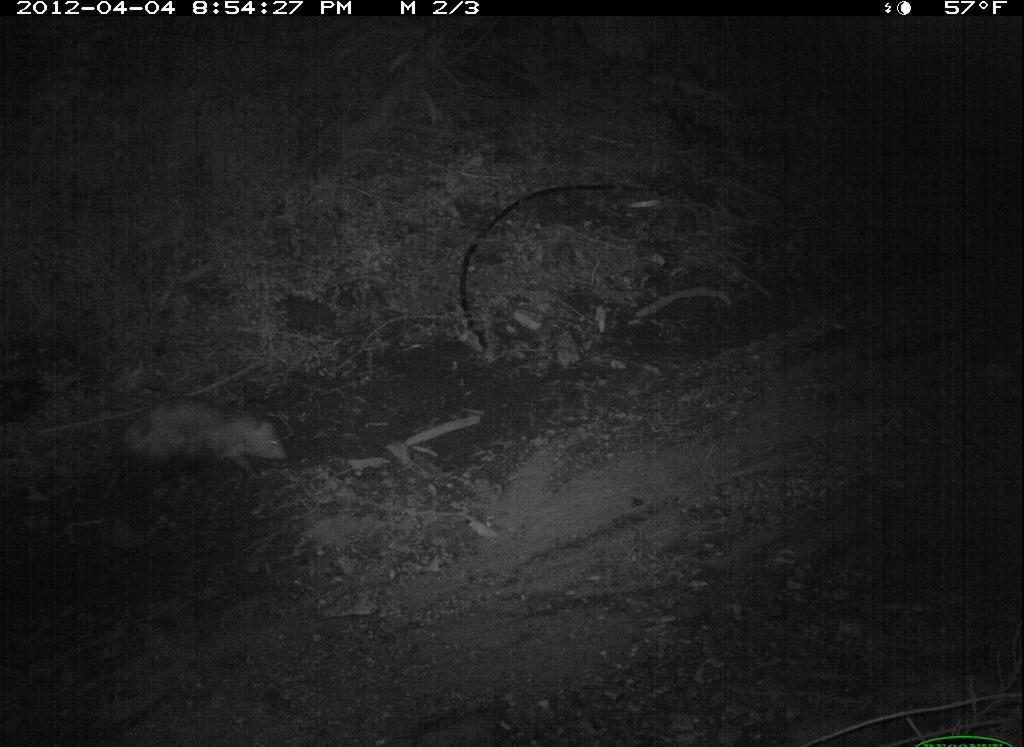opossum: (56, 388, 286, 489)
